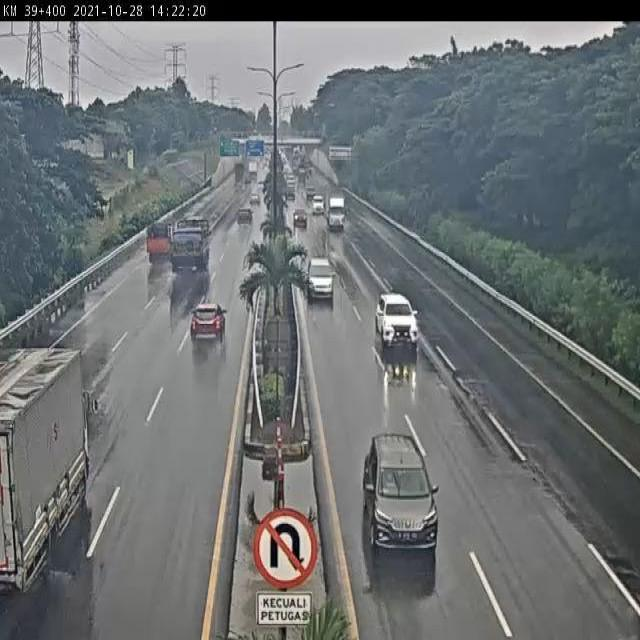big truck: (0, 342, 91, 618)
car: (365, 436, 438, 552), (369, 280, 419, 348), (300, 243, 337, 297), (188, 302, 228, 350), (235, 207, 257, 232), (311, 191, 325, 220), (294, 205, 309, 227), (249, 186, 262, 206)
small truck: (167, 218, 206, 278), (135, 218, 169, 266), (324, 187, 346, 228)
